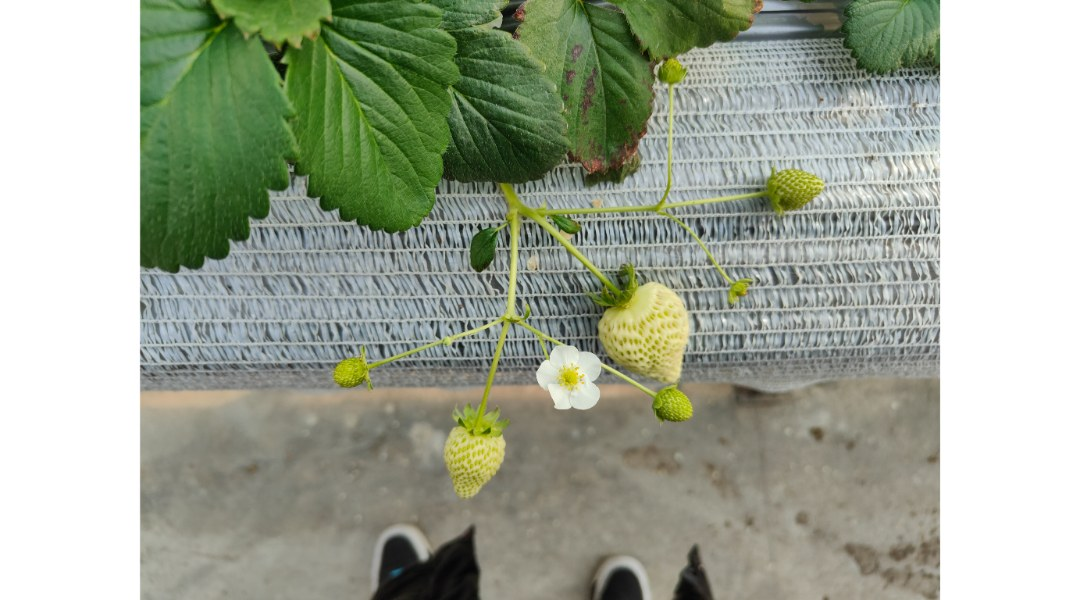berry: (581, 265, 699, 390), (438, 406, 520, 503), (759, 158, 836, 216), (637, 373, 703, 428), (329, 346, 387, 393), (645, 47, 702, 93)
flower: (533, 340, 608, 418)
strain: (525, 323, 652, 397), (372, 314, 502, 363), (540, 188, 650, 234), (544, 235, 623, 290), (491, 221, 530, 307), (475, 327, 510, 414), (675, 182, 759, 216), (657, 103, 683, 200)
